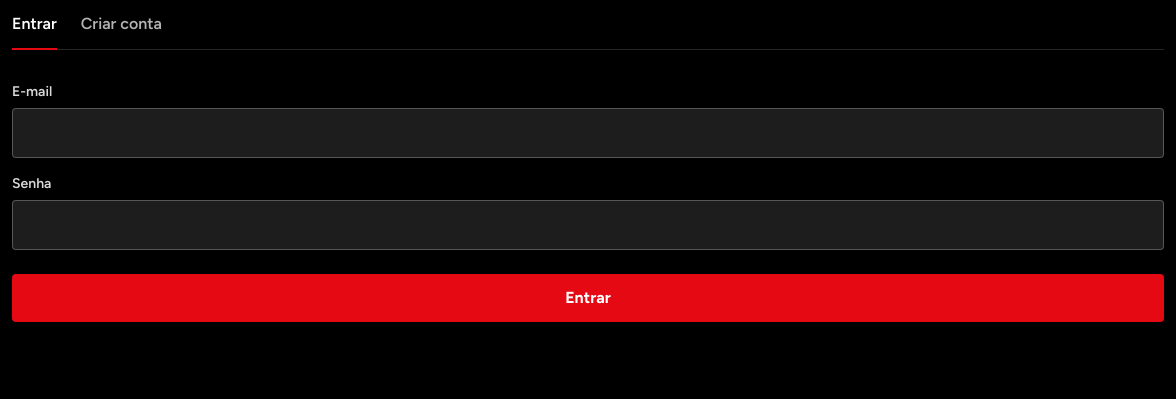
mostra o erro e mantém o e-mail
In the field labelled "E-mail": (588, 133) [12,108,1164,158], type "ana@x.com"
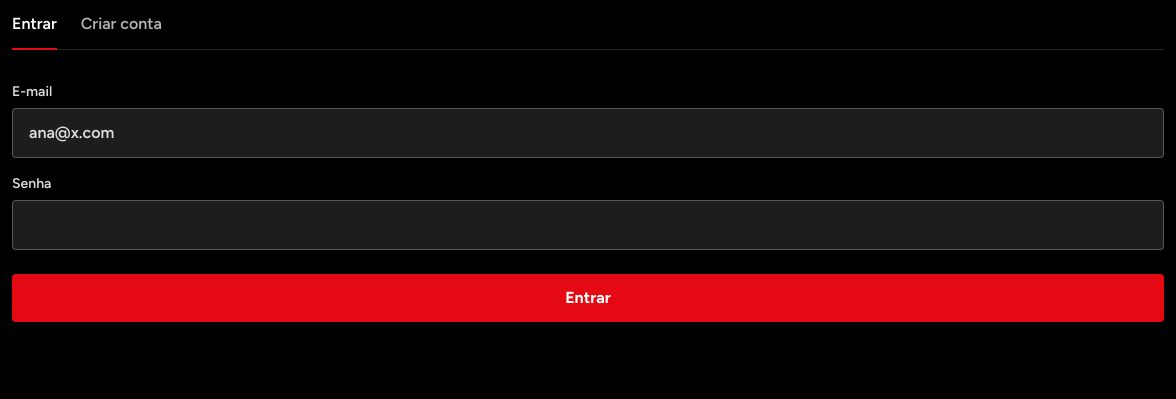
In the password field labelled "Senha": (588, 225) [12,200,1164,250], type "errada1"
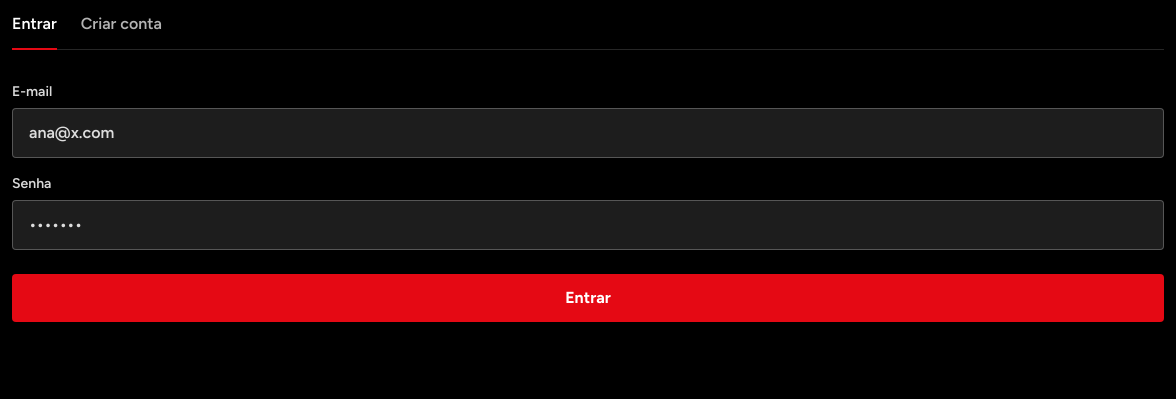
Click the button "Entrar": (588, 298) [12,274,1164,322]
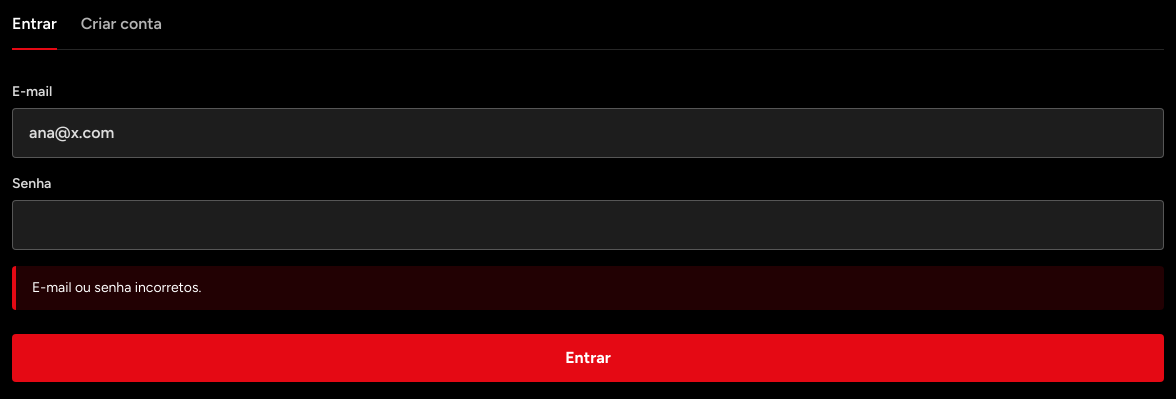
Now the field labelled "E-mail" holds "ana@x.com", box [12,108,1164,158]
Now the message reads "E-mail ou senha incorretos.", box [32,279,201,296]
